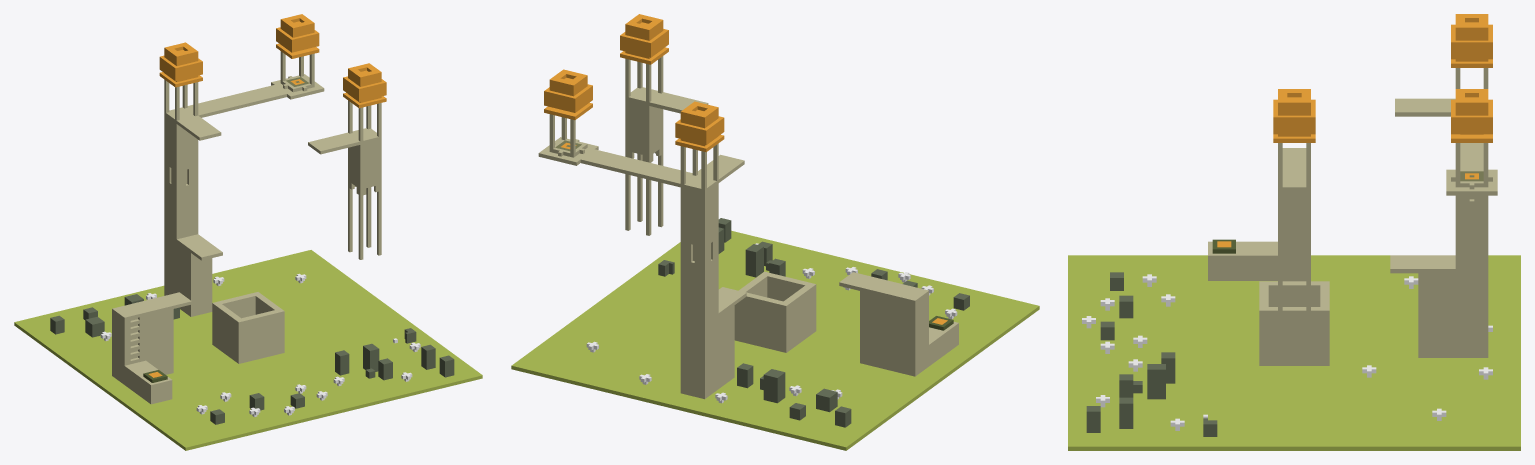
The model's file is monu9-nopillarnoz.dae.
3 renders of one model, left to right at view 1: azimuth 30°, elevation 25°; view 2: azimuth 150°, elevation 25°; view 3: azimuth 270°, elevation 25°, orthographic. The views are drawn at different scales.
Parts seen in each view (by area): view 1: defaultobject; view 2: defaultobject; view 3: defaultobject.
Part boxes in pixels (x1,y1,x2,y2): defaultobject: [14, 14, 482, 450]; defaultobject: [511, 14, 1039, 450]; defaultobject: [1068, 14, 1520, 450].
Bounding box in the file's own units: 97 × 79 × 97.
1 material, 1 textured.
